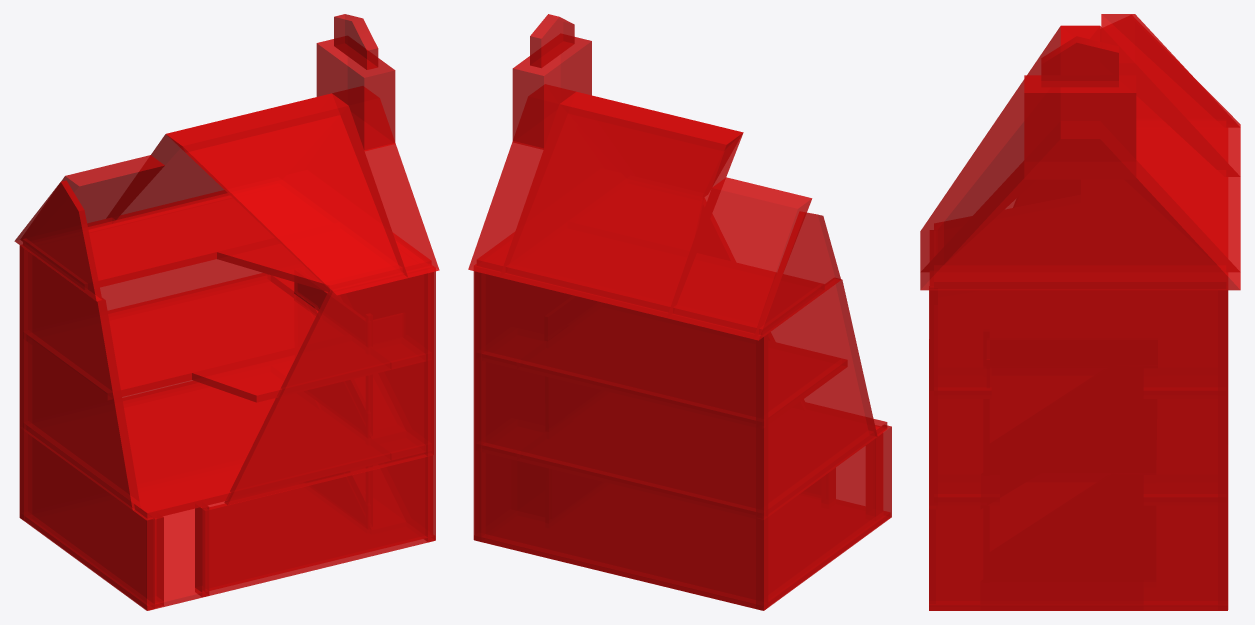
File: SM_Bld_City_Preset_08_Collision.fbx
The picture shows the model from 3 angles, left to right: view 1: azimuth 30°, elevation 25°; view 2: azimuth 150°, elevation 25°; view 3: azimuth 270°, elevation 25°; orthographic projection. The views are drawn at different scales.
Parts seen in each view (by area): view 1: SM_Bld_City_Preset_08_Collision; view 2: SM_Bld_City_Preset_08_Collision; view 3: SM_Bld_City_Preset_08_Collision.
Part boxes in pixels (x1,y1,x2,y2): SM_Bld_City_Preset_08_Collision: [14, 14, 439, 610]; SM_Bld_City_Preset_08_Collision: [468, 14, 891, 610]; SM_Bld_City_Preset_08_Collision: [920, 14, 1240, 610].
Bounding box in the file's own units: 1000 × 1584 × 817.
